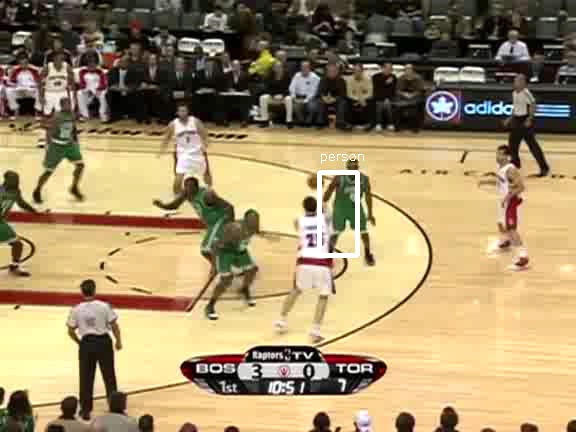person: (336, 164, 370, 245), (335, 164, 369, 245), (337, 164, 371, 245), (336, 163, 370, 244), (336, 165, 370, 246)
target_negative: (240, 100, 379, 320), (243, 52, 319, 303), (453, 165, 526, 337), (125, 418, 531, 431), (521, 49, 563, 129), (131, 425, 455, 426)
